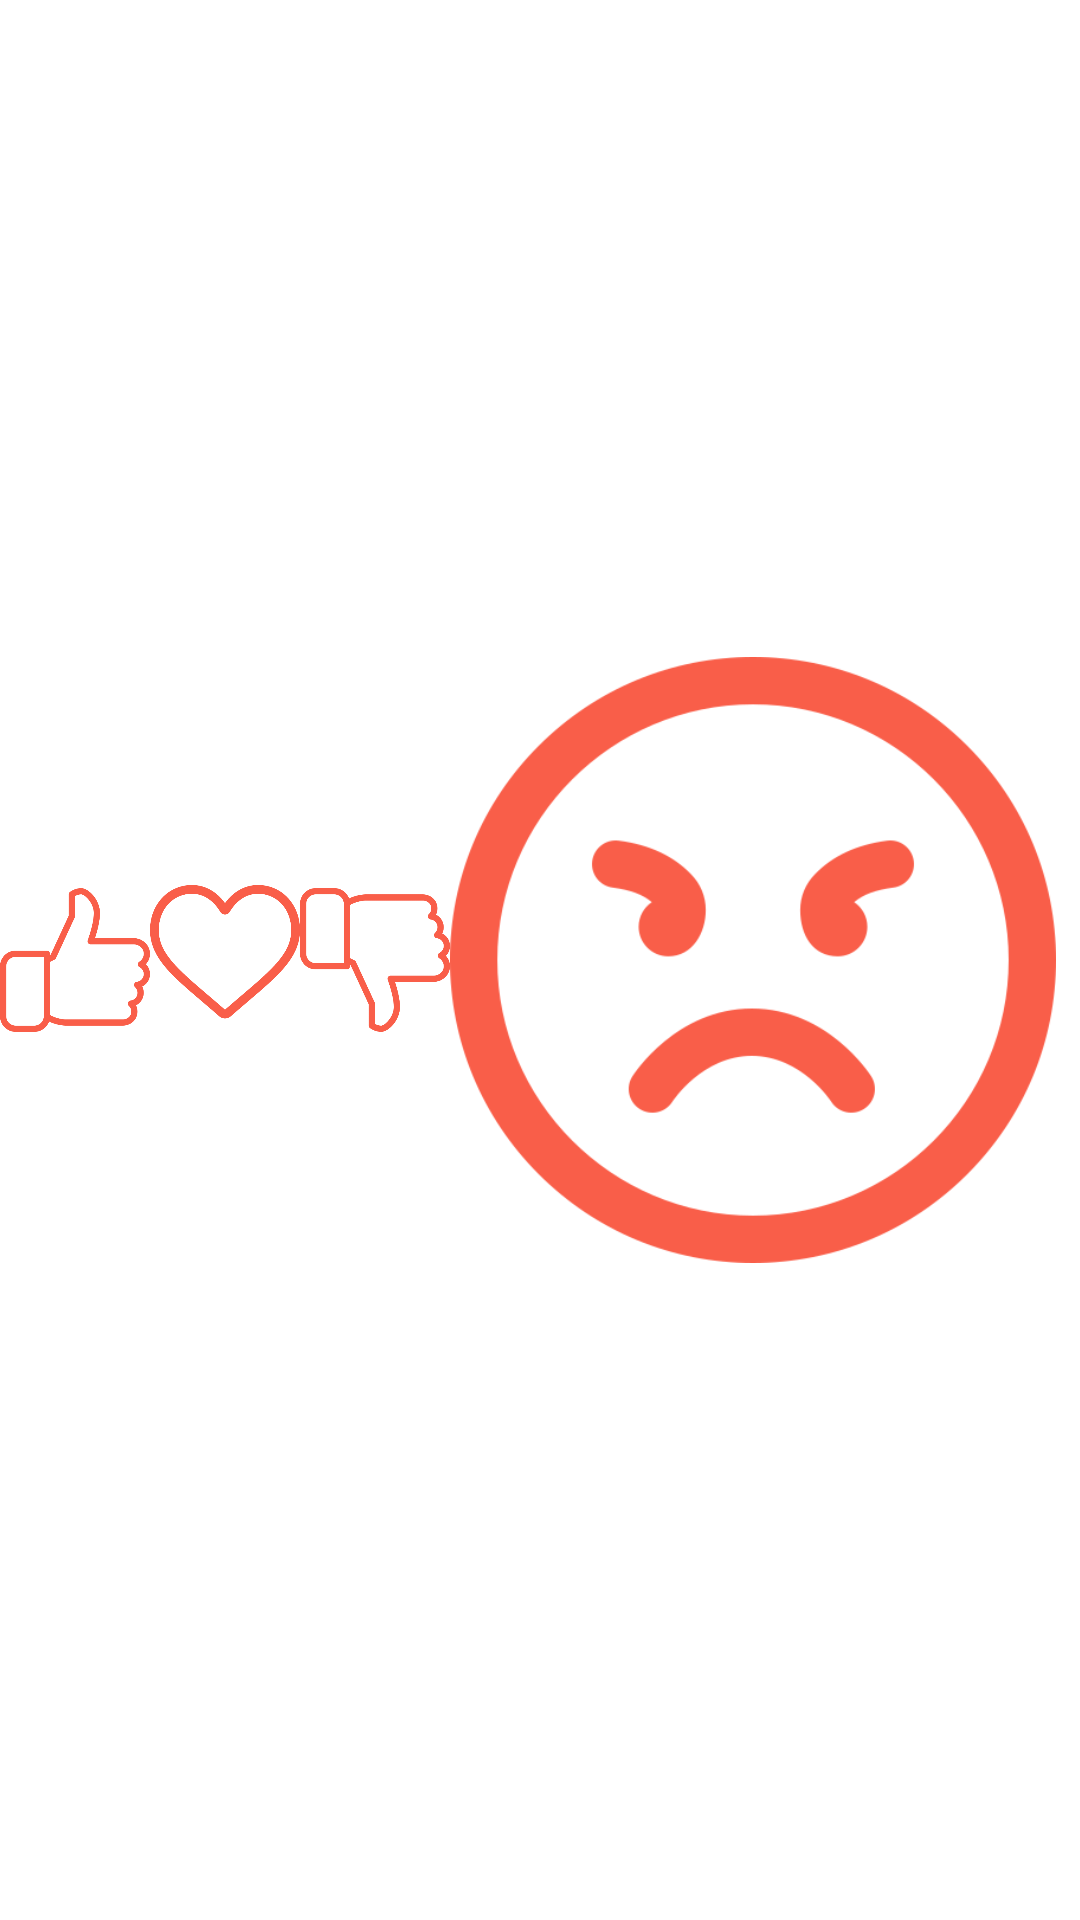

Icons on this 1080×1920 Android screen, each with its box as [x1=x1, y1=y1, x2=x2, y2=y2]:
dislike: [x1=300, y1=888, x2=450, y2=1032]
heart: [x1=150, y1=885, x2=300, y2=1019]
like: [x1=0, y1=888, x2=150, y2=1032]
